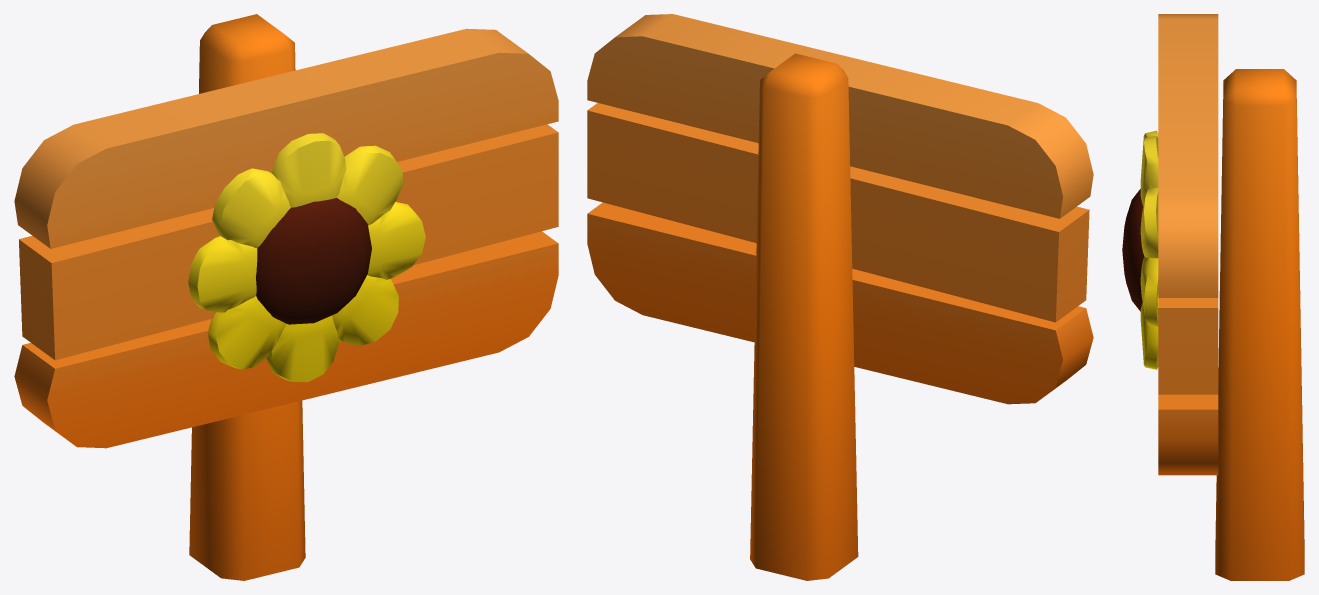
Rendered from Farm_Crop_Sign_Sunflower_01.fbx.
3 views of the same model, side by side, from view 1: azimuth 30°, elevation 25°; view 2: azimuth 150°, elevation 25°; view 3: azimuth 270°, elevation 25° (orthographic). The views are drawn at different scales.
Visible parts, largest first — view 1: Farm_Crop_Sign_Sunflower_01; view 2: Farm_Crop_Sign_Sunflower_01; view 3: Farm_Crop_Sign_Sunflower_01.
Part boxes in pixels (x1,y1,x2,y2): Farm_Crop_Sign_Sunflower_01: [14, 14, 558, 580]; Farm_Crop_Sign_Sunflower_01: [587, 14, 1093, 580]; Farm_Crop_Sign_Sunflower_01: [1122, 14, 1304, 580].
Size of the model in its own units: 90.11 by 88.8 by 30.38.
